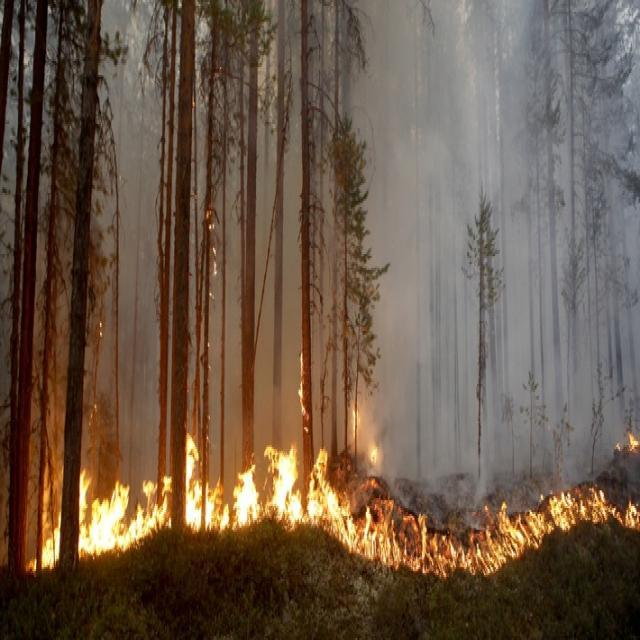Fire: (80, 451, 360, 548), (365, 507, 533, 573), (538, 491, 636, 533)
Smoke: (358, 11, 636, 491), (102, 13, 156, 475), (255, 62, 301, 449)
